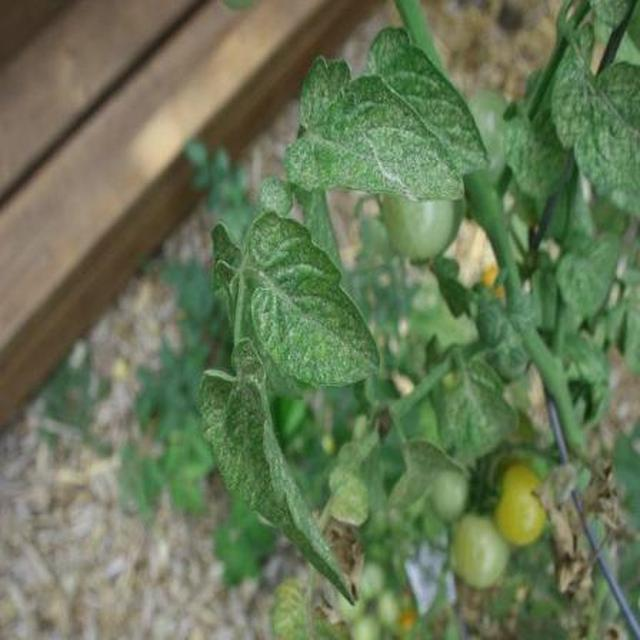Spider Mites Leaf: (193, 183, 536, 640)
